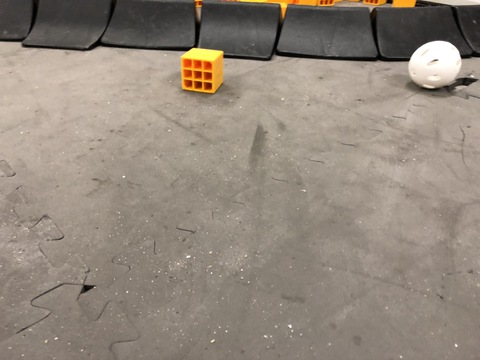ball: (403, 35, 469, 100)
block: (171, 42, 242, 107)
